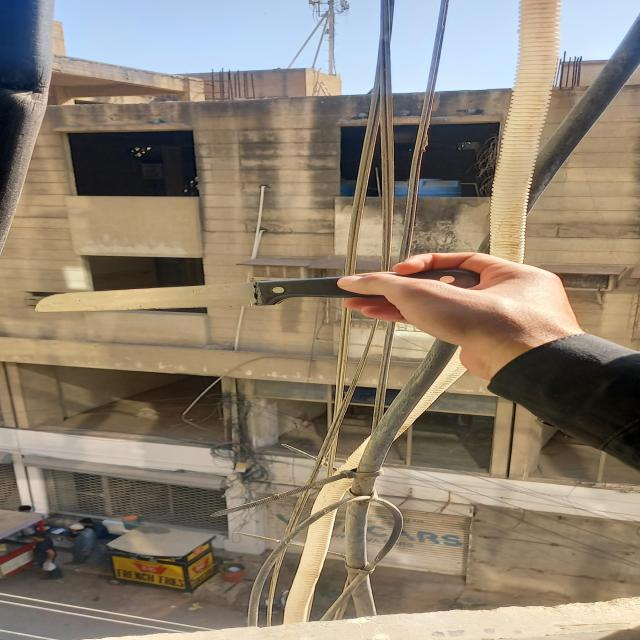Knife: (34, 270, 482, 312)
Person: (363, 252, 640, 471)
